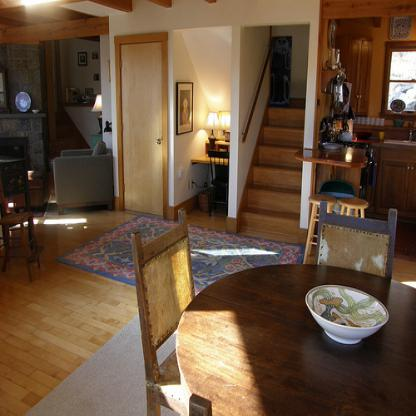chair: (130, 211, 197, 415), (318, 200, 398, 280), (56, 140, 115, 213), (0, 189, 44, 281), (206, 151, 230, 218)
diningtable: (173, 261, 415, 415)
